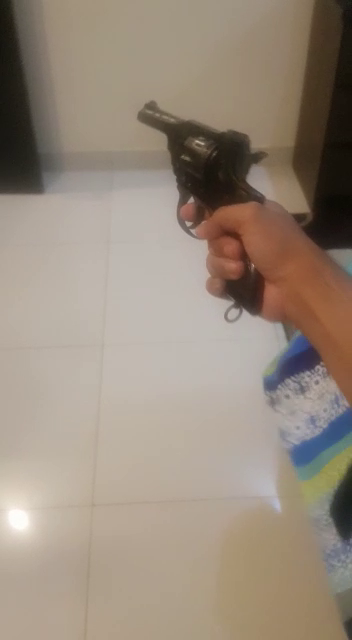handgun: (109, 77, 275, 383)
